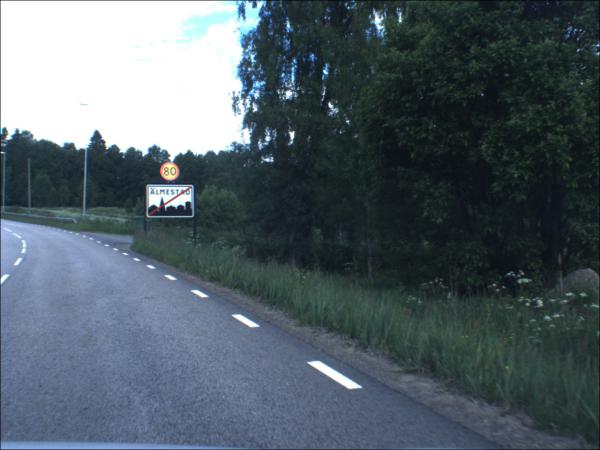80_SIGN: (162, 163, 183, 182)
